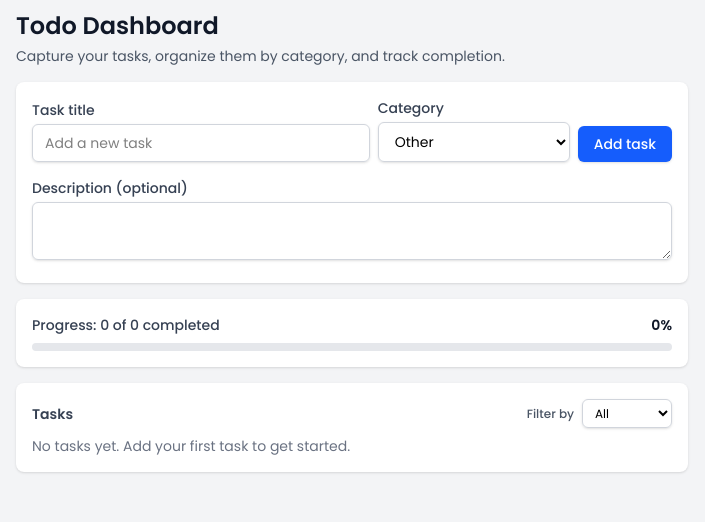
Test: TodoDashboard delete task › removes task from list when deletion is confirmed
This screenshot has width=705, height=522.
Type "Task to delete" into the field labelled "Task title" at (201, 143), box [32,124,370,162]
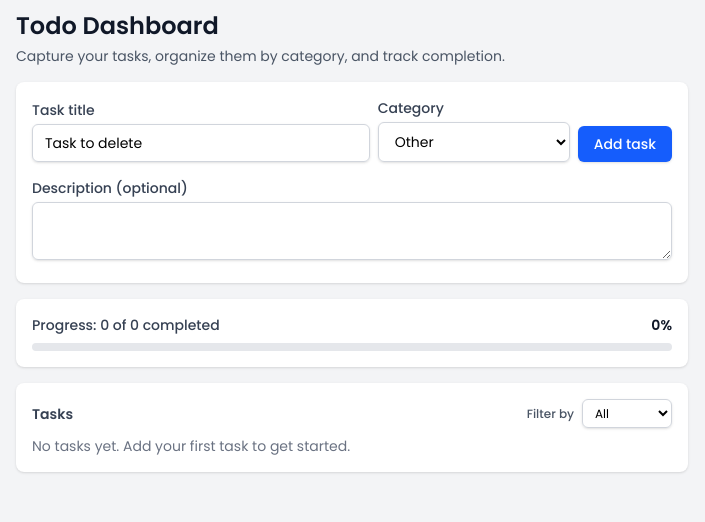
Click the button "Add task" at (625, 144), box [578,126,672,162]
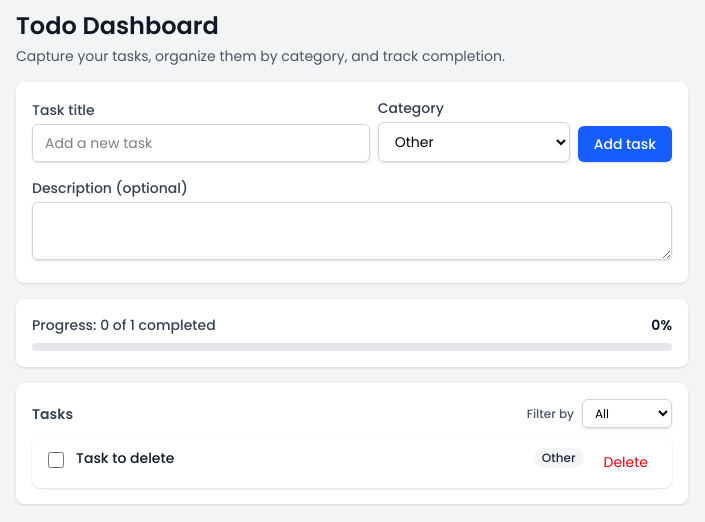
Click the button with aria-label "delete task" at (626, 462), box [596,448,656,476]
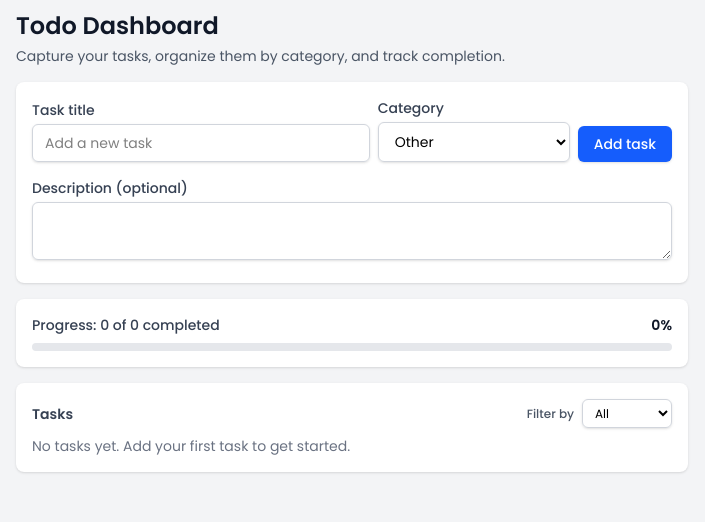
Result: the text "Task to delete" is gone
